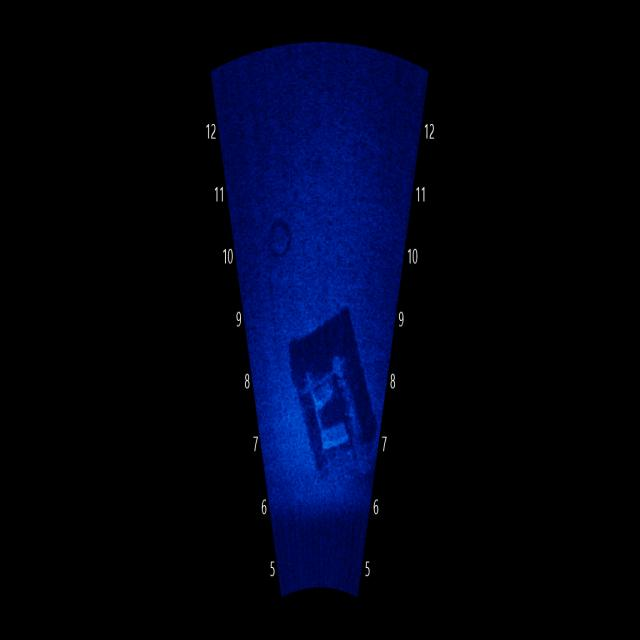square: (290, 334, 372, 480)
